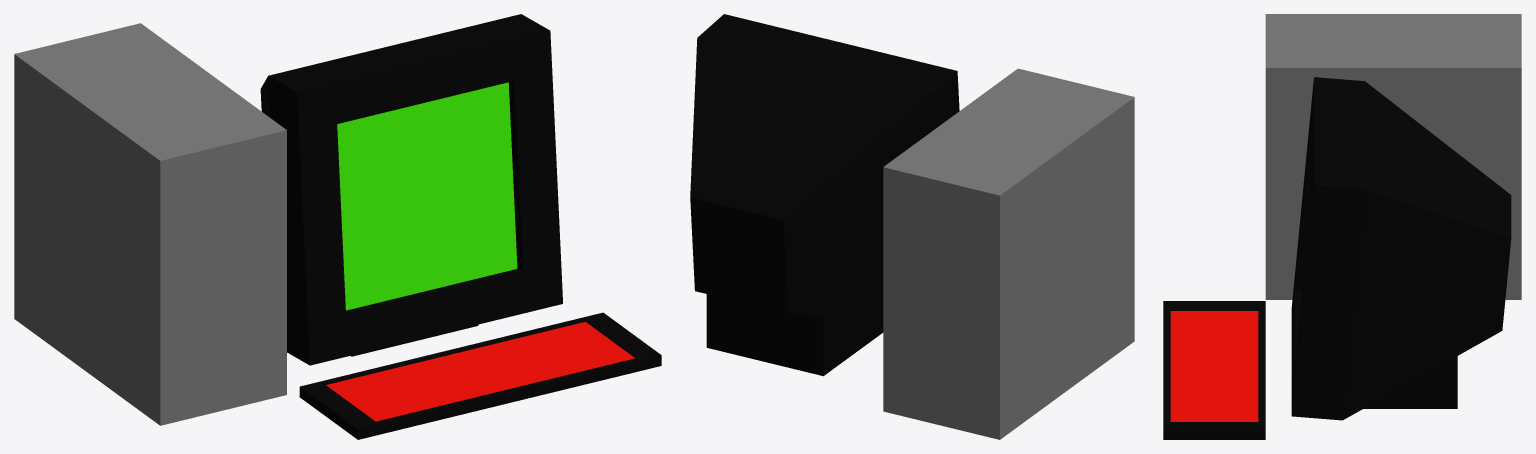
File: ComputerSet.fbx
The picture shows the model from 3 angles, left to right: view 1: azimuth 30°, elevation 25°; view 2: azimuth 150°, elevation 25°; view 3: azimuth 270°, elevation 25°; orthographic projection. The views are drawn at different scales.
Parts seen in each view (by area): view 1: ComputerTower, Monitor, Keyboard; view 2: ComputerTower, Monitor; view 3: Monitor, ComputerTower, Keyboard.
Part boxes in pixels (x1,y1,x2,y2): ComputerTower: (14,23,286,425); Monitor: (260,14,562,365); Keyboard: (299,312,661,439); ComputerTower: (883,68,1134,439); Monitor: (690,14,959,376); Monitor: (1291,77,1511,420); ComputerTower: (1265,14,1521,299); Keyboard: (1163,301,1265,439).
Bounding box in the file's own units: 0.00875 × 0.00541 × 0.007.
